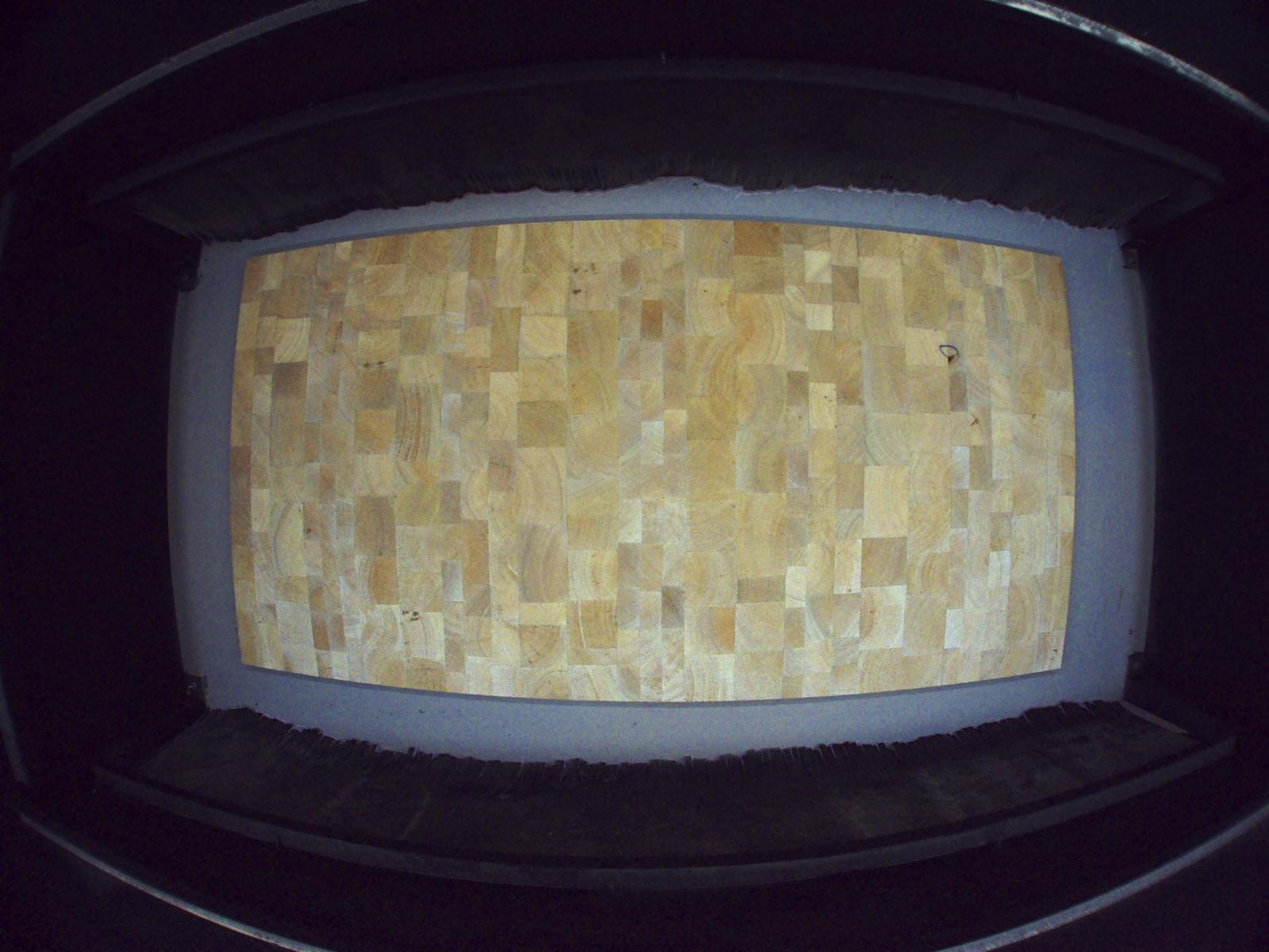nudillo: (948, 353, 959, 364)
sheck_ecuatoriano: (969, 412, 984, 436)
